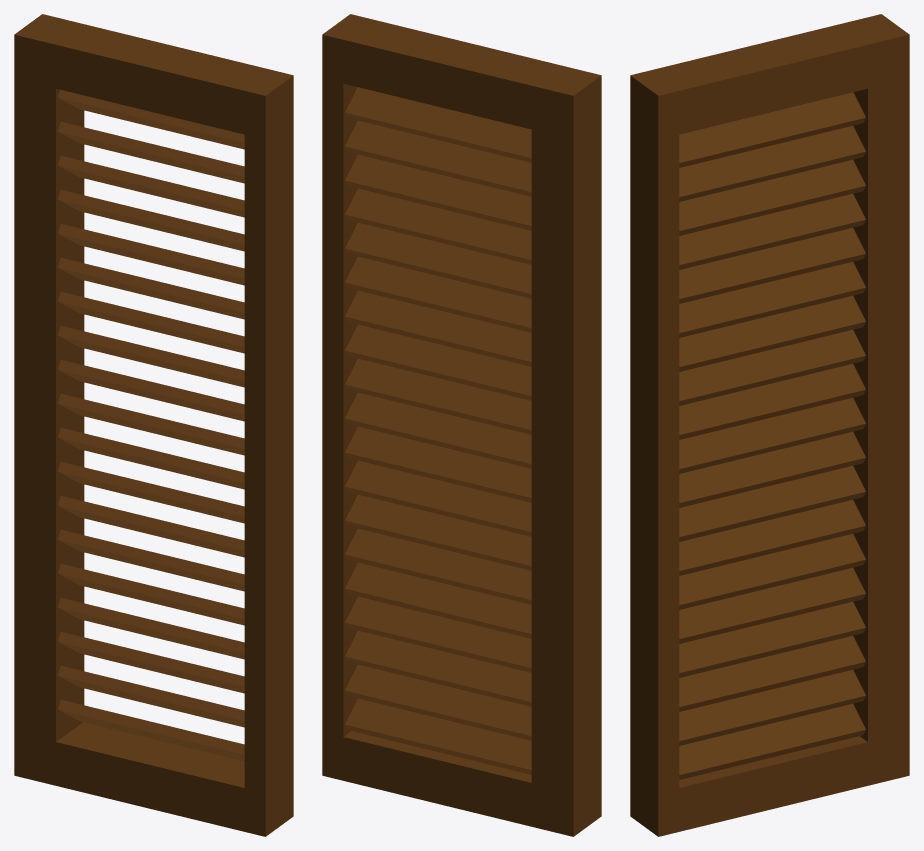
Rendered from puertaDer.obj.
3 renders of one model, left to right at view 1: azimuth 30°, elevation 25°; view 2: azimuth 210°, elevation 25°; view 3: azimuth 270°, elevation 25°, orthographic.
Parts seen in each view (by area): view 1: polySurface26; view 2: polySurface26; view 3: polySurface26.
Part boxes in pixels (x1=…): polySurface26: x1=14, y1=14, x2=293, y2=836; polySurface26: x1=322, y1=14, x2=601, y2=836; polySurface26: x1=630, y1=14, x2=909, y2=836.
Bounding box in the file's own units: 0.3851 × 1.62 × 0.5551.
1 material, 1 textured.
